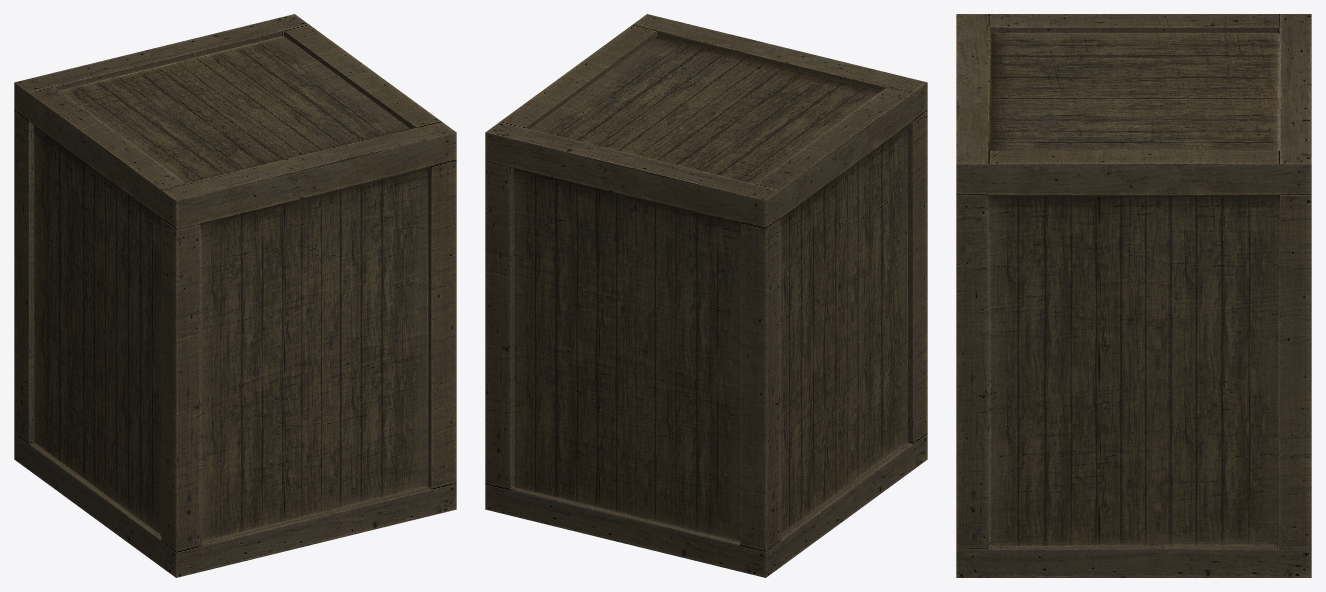
The model's file is wooden_crate_hx_2.glb.
The picture shows the model from 3 angles, left to right: view 1: azimuth 30°, elevation 25°; view 2: azimuth 150°, elevation 25°; view 3: azimuth 270°, elevation 25°; orthographic projection. The views are drawn at different scales.
Parts seen in each view (by area): view 1: wooden_crate_hx_2; view 2: wooden_crate_hx_2; view 3: wooden_crate_hx_2.
Part boxes in pixels (<box>): wooden_crate_hx_2: <box>14,14,456,577</box>; wooden_crate_hx_2: <box>485,14,927,577</box>; wooden_crate_hx_2: <box>956,14,1311,577</box>.
Bounding box in the file's own units: 1.4 × 1.8 × 1.4.
Materials: 1 (1 with a texture image).
